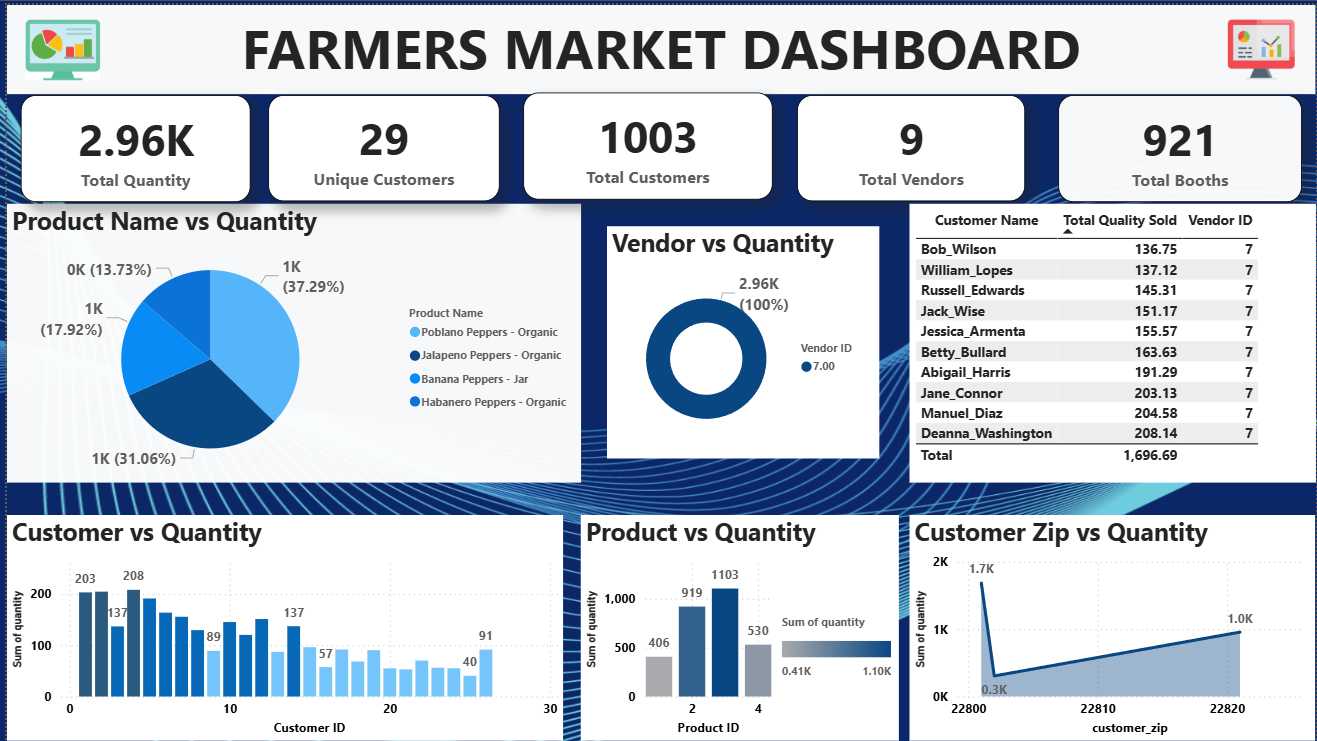

Layout of this report page (visuals, bound fields, positions):
{"tool":"powerbi","page":{"name":"Quantity Wise Analysis","canvas":[1280,720],"ordinal":1},"visuals":[{"type":"columnChart","title":"Customer vs Quantity","fields":{"Category":["customer_purchases.customer_id"],"Y":["Sum(customer_purchases.quantity)"]},"box":[0,499.5,543.9,220.8],"z":0},{"type":"clusteredColumnChart","title":"Product vs Quantity","fields":{"Y":["Sum(customer_purchases.quantity)"],"Category":["product.product_id"]},"box":[561.4,499.5,311,220.8],"z":1000},{"type":"pieChart","title":"Product Name vs Quantity","fields":{"Category":["product.product_name"],"Y":["Sum(customer_purchases.quantity)"]},"box":[0,194.4,561.3,272.7],"z":2000},{"type":"donutChart","title":"Vendor vs Quantity","fields":{"Y":["Sum(customer_purchases.quantity)"],"Category":["customer_purchases.vendor_id"]},"box":[587,216.7,266.6,227.5],"z":3000},{"type":"textbox","box":[0,0,1280.3,87.6],"z":4000},{"type":"image","box":[13.5,0,82.2,87.6],"z":5000},{"type":"image","box":[1187.3,0,79.5,87.6],"z":6000},{"type":"card","fields":{"Values":["Sum(customer_purchases.quantity)"]},"box":[13.5,87.5,224.8,105],"z":7000},{"type":"card","fields":{"Values":["Count(customer_purchases.customer_id)"]},"box":[255.8,87.5,226.2,103.7],"z":8000},{"type":"card","fields":{"Values":["CountNonNull(customer_purchases.quantity)"]},"box":[504.8,86.2,243.7,105],"z":9000},{"type":"card","fields":{"Values":["CountNonNull(vendor.vendor_id)"]},"box":[772.7,87.5,223.5,103.7],"z":10000},{"type":"card","fields":{"Values":["CountNonNull(vendor_booth_assignments.booth_number)"]},"box":[1028.5,87.5,238.3,105],"z":11000},{"type":"tableEx","fields":{"Values":["customer.customer_full_name","Sum(customer_purchases.quantity)","vendor.vendor_id"]},"box":[882.9,194.4,397.4,272.7],"z":12000},{"type":"areaChart","title":"Customer Zip vs Quantity","fields":{"Category":["customer.customer_zip"],"Y":["Sum(customer_purchases.quantity)"]},"box":[883.1,499.5,397.1,220.8],"z":13000}]}

Visuals, with their boxes in screenshot pixels (x1, y1, x2, y2), scaled from the page's 1280x720 canvas onto the 1317x741 screenshot:
"Customer vs Quantity" columnChart: x1=0, y1=514, x2=560, y2=740
"Product vs Quantity" clusteredColumnChart: x1=578, y1=514, x2=898, y2=740
"Product Name vs Quantity" pieChart: x1=0, y1=200, x2=578, y2=481
"Vendor vs Quantity" donutChart: x1=604, y1=223, x2=878, y2=457
textbox: x1=0, y1=0, x2=1316, y2=90
image: x1=14, y1=0, x2=98, y2=90
image: x1=1222, y1=0, x2=1303, y2=90
card - Sum(customer_purchases.quantity): x1=14, y1=90, x2=245, y2=198
card - Count(customer_purchases.customer_id): x1=263, y1=90, x2=496, y2=197
card - CountNonNull(customer_purchases.quantity): x1=519, y1=89, x2=770, y2=197
card - CountNonNull(vendor.vendor_id): x1=795, y1=90, x2=1025, y2=197
card - CountNonNull(vendor_booth_assignments.booth_number): x1=1058, y1=90, x2=1303, y2=198
tableEx - customer.customer_full_name x Sum(customer_purchases.quantity): x1=908, y1=200, x2=1316, y2=481
"Customer Zip vs Quantity" areaChart: x1=909, y1=514, x2=1316, y2=740
